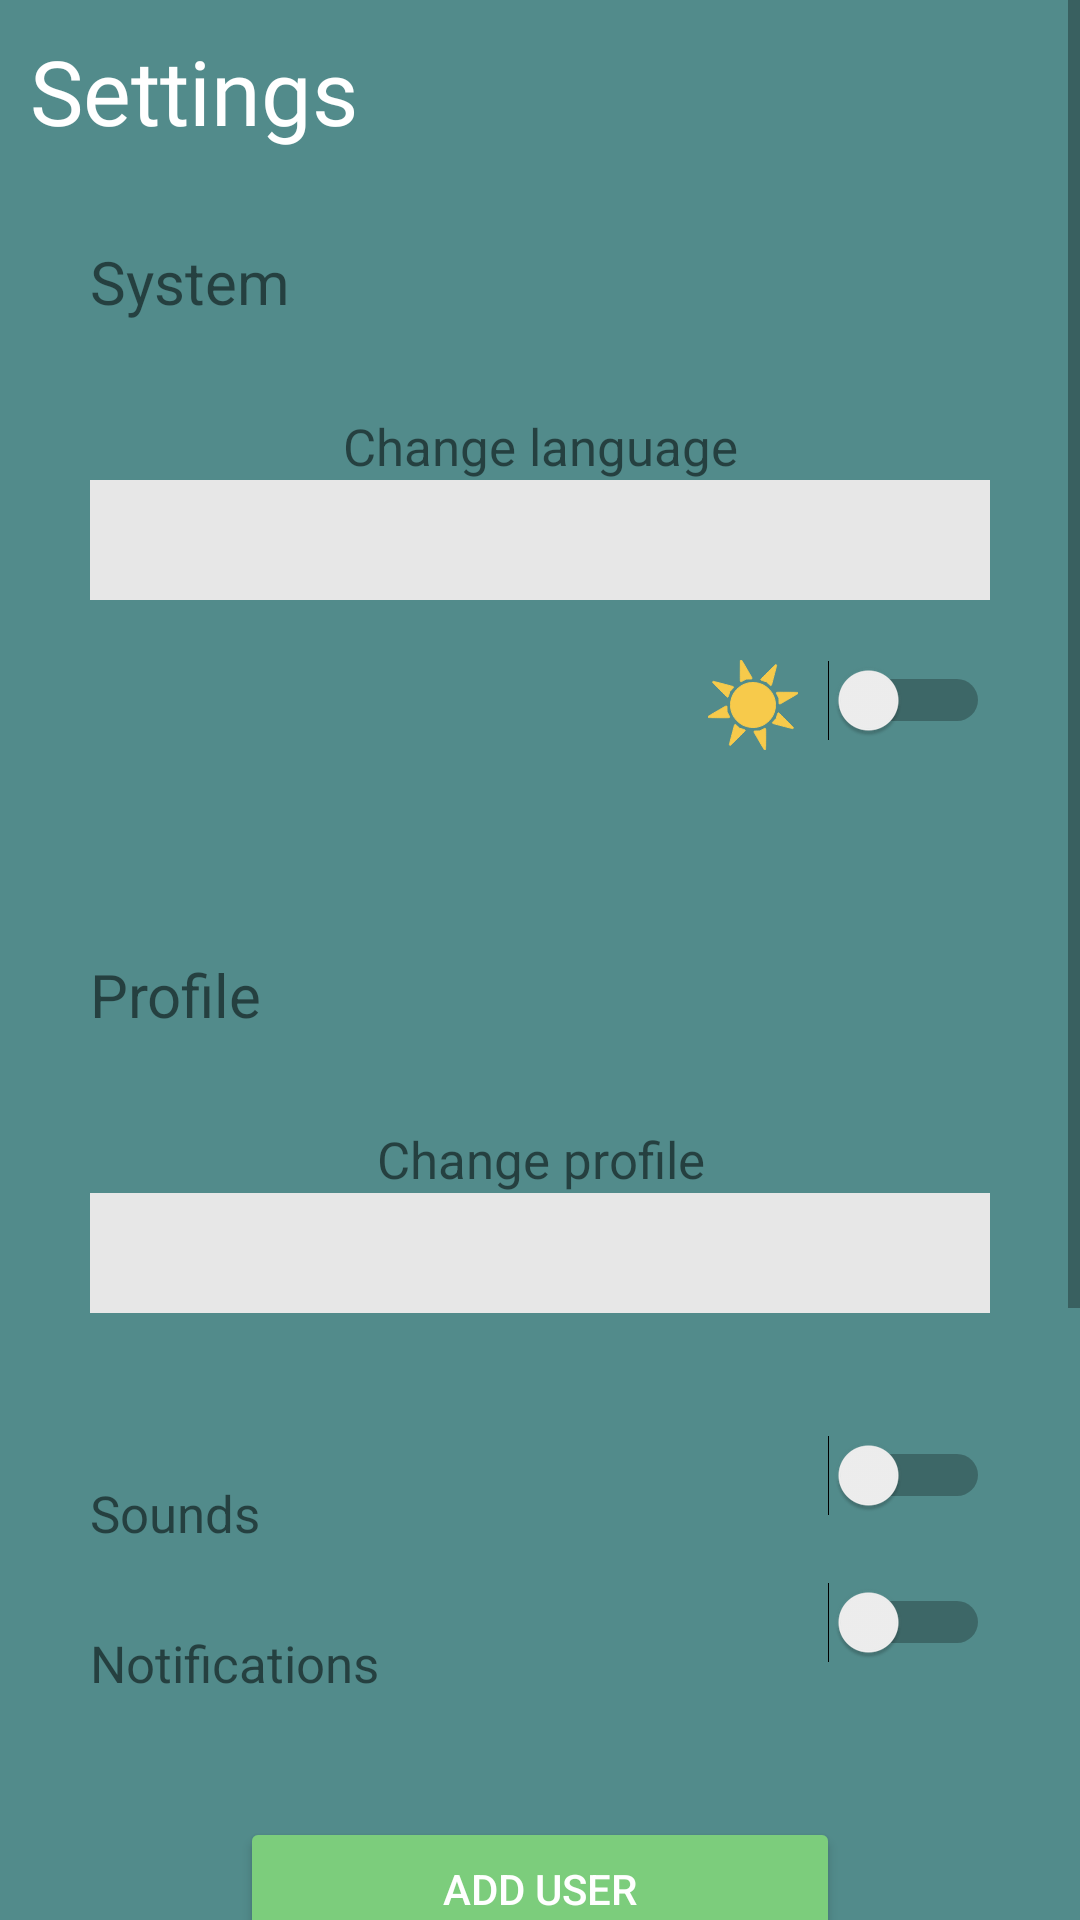

Named icons in this screenshot (1080*1920) and their bounding boxes, (x1, y1, x2, y2):
sun: (708, 660, 798, 750)
